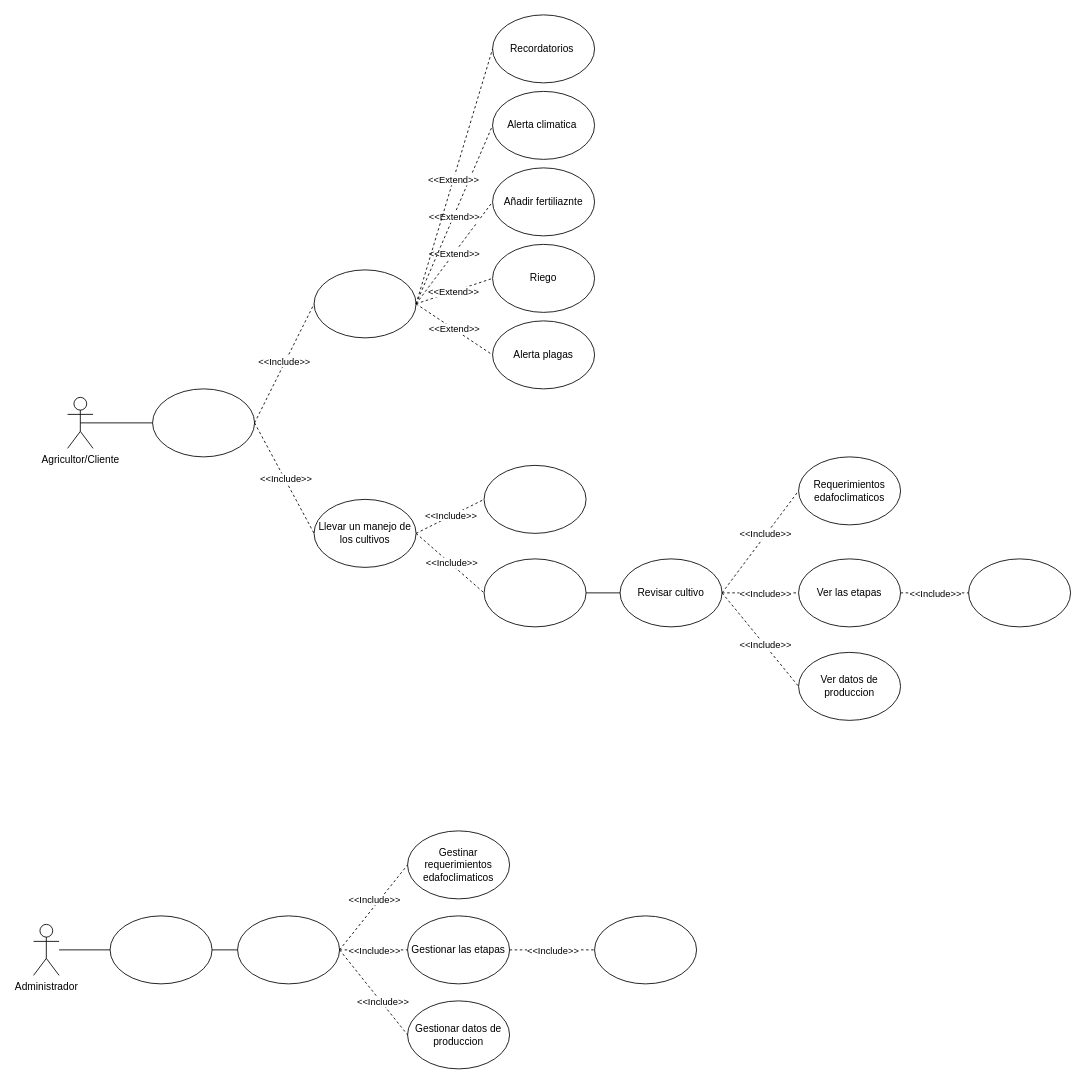
Image size: 1085x1084. Some labels were removed from this diagram. Here are the shapes that lost their labels. From the top down, the centre of each, then its label:
the point at 364,303: Ver alertas
the point at 203,422: Maneja la aplicacion
the point at 534,499: Registrar cultivo
the point at 534,592: filtrar cultivos
the point at 1019,592: Reglas (Recomendaciones)
the point at 160,949: Gestiona aplicaion
the point at 288,949: Gestionar cultivos
the point at 645,949: gestionar reglas (Recomendaciones)
